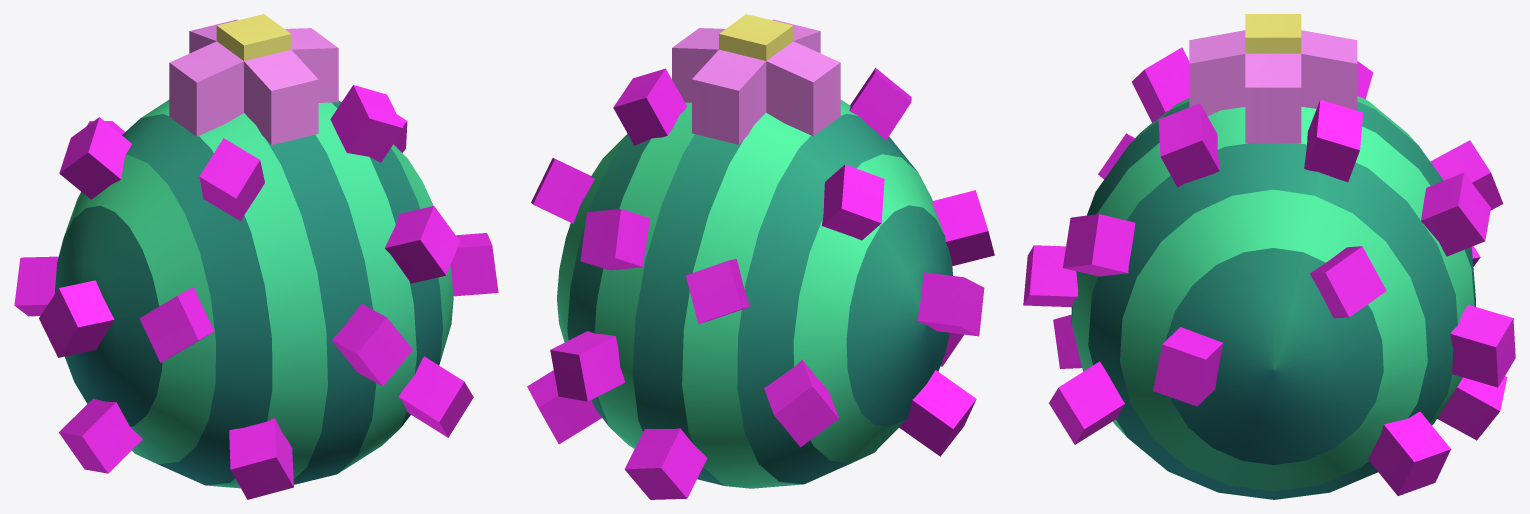
File: OG_cactus3.fbx
3 renders of one model, left to right at view 1: azimuth 30°, elevation 25°; view 2: azimuth 150°, elevation 25°; view 3: azimuth 270°, elevation 25°, orthographic. The views are drawn at different scales.
Visible parts, largest first — view 1: stripes_light; view 2: stripes_light; view 3: stripes_light.
Part boxes in pixels (<box>): stripes_light: <box>14,14,498,499</box>; stripes_light: <box>527,14,994,499</box>; stripes_light: <box>1023,14,1515,499</box>.
Bounding box in the file's own units: 29.15 × 29.75 × 29.43.
